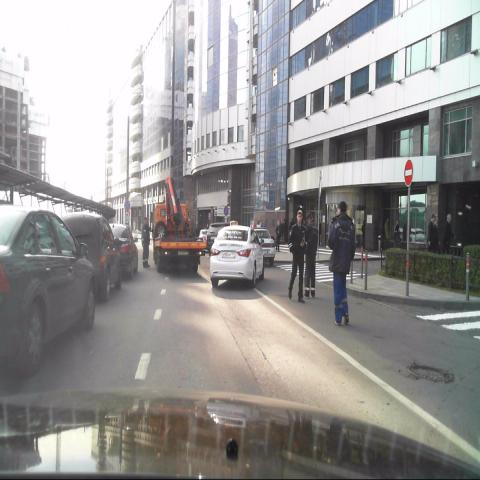3_1: (404, 157, 412, 186)
